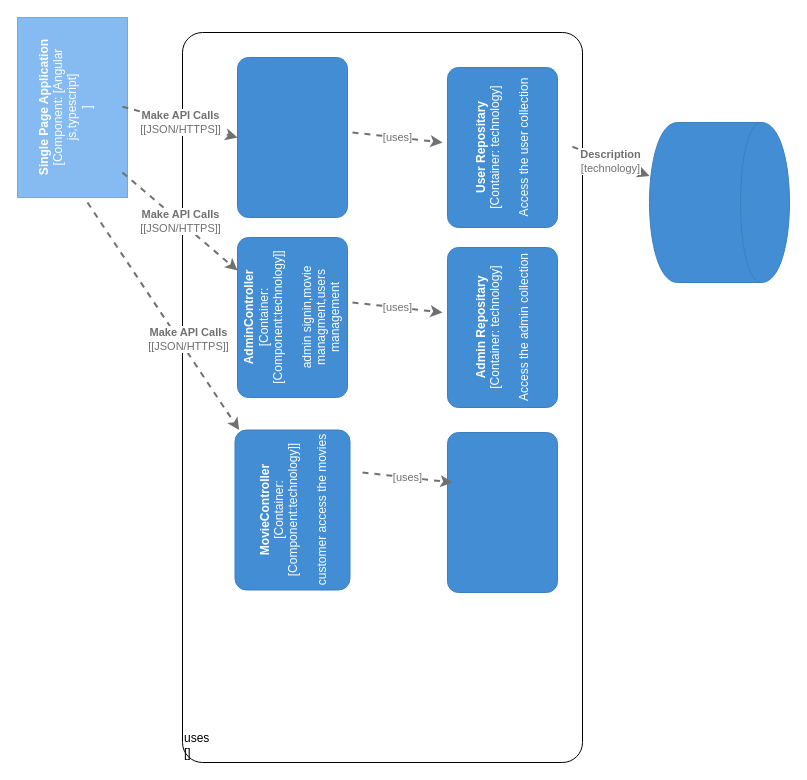
The diagram is 807 pixels wide and 780 high, and some of its shapes have lost their labels. Each missing label, with the centre of its shape:
"Database [Container: [data-mongodb]] Access" goes at pixel 719 202.
"Movie Repositary [Container: technology] Access the Movie collection" goes at pixel 502 512.
"UserController [Container: [Component:technology]] customers signin,signup" goes at pixel 292 137.
